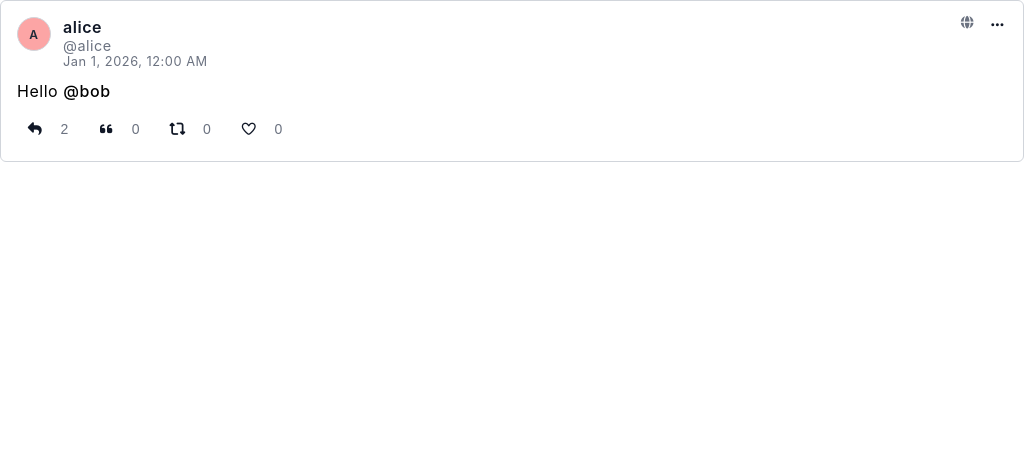
Scenario: ActivityCard › expands replies when the reply counter is clicked
The image size is (1024, 471).
Click the button with class "activity-card__count" showing "2". click: click(64, 129)
box: [52,117,76,141]
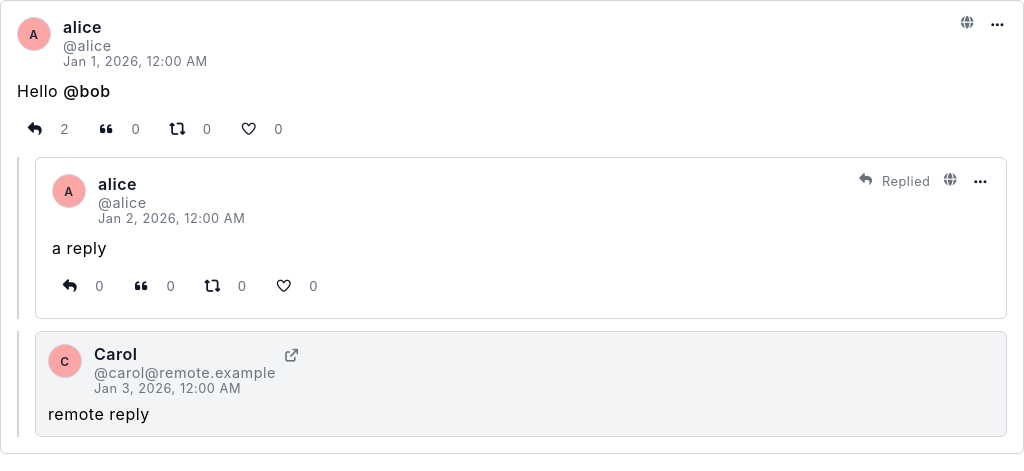
Expected: the element with class "activity-card__replies" is shown, [17,157,1007,437]
Expected: the element with class "activity-card__replies" shows "a reply", [52,238,107,258]
Expected: the element with class "activity-card__replies" shows "remote reply", [48,404,150,424]
